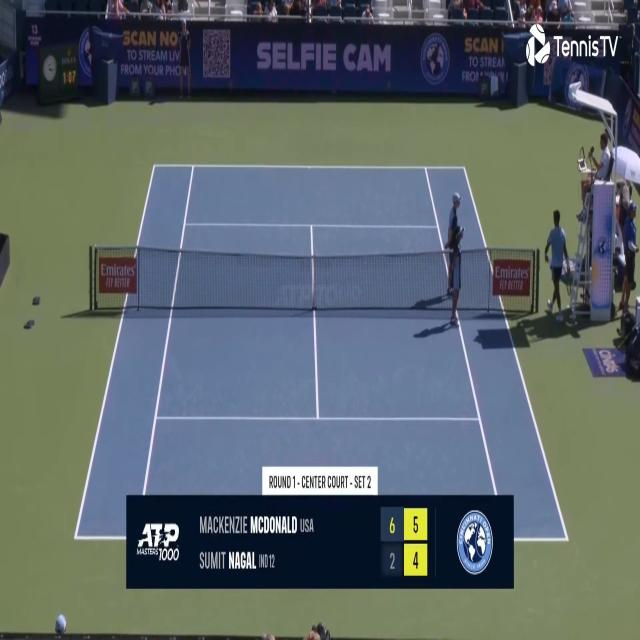tennis-player: (540, 207, 572, 316)
